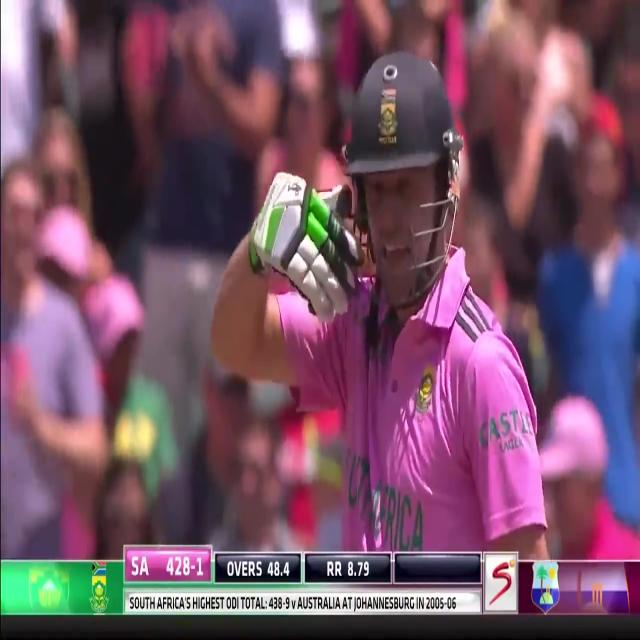Ball: (211, 43, 547, 553)
